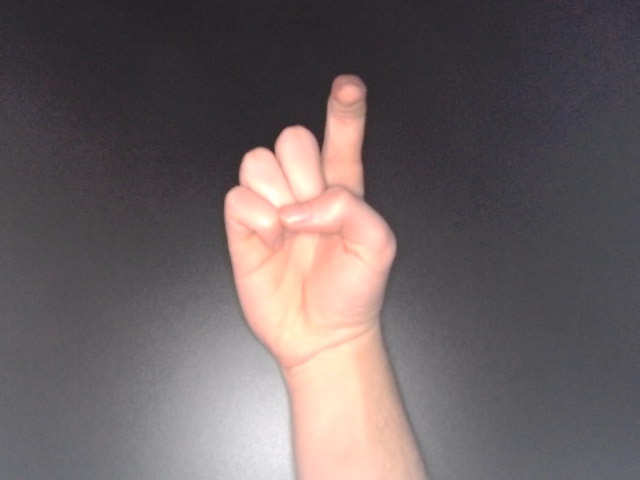x: (217, 67, 404, 375)
